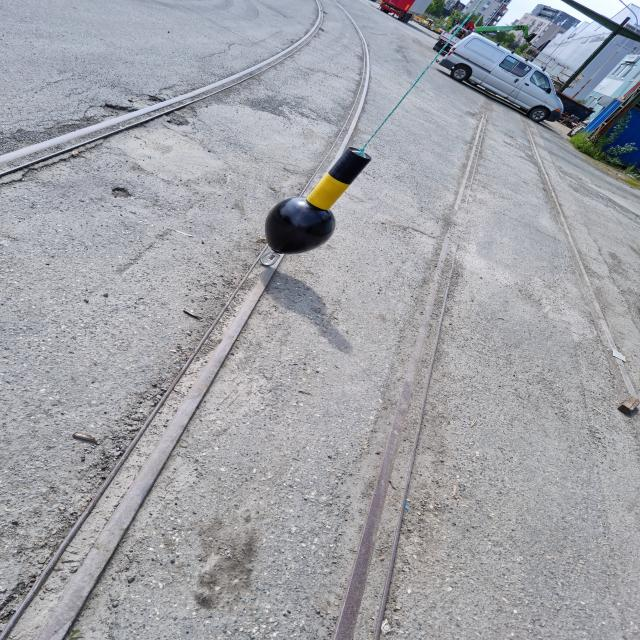east: (264, 146, 373, 255)
